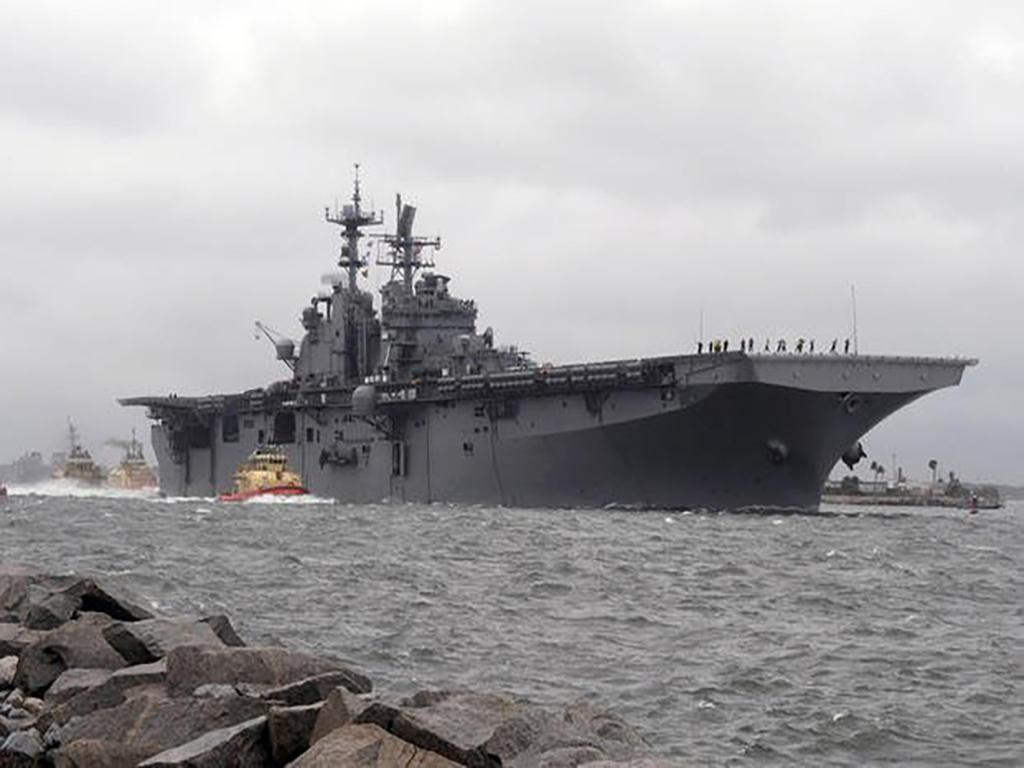Warship: (112, 160, 980, 572)
